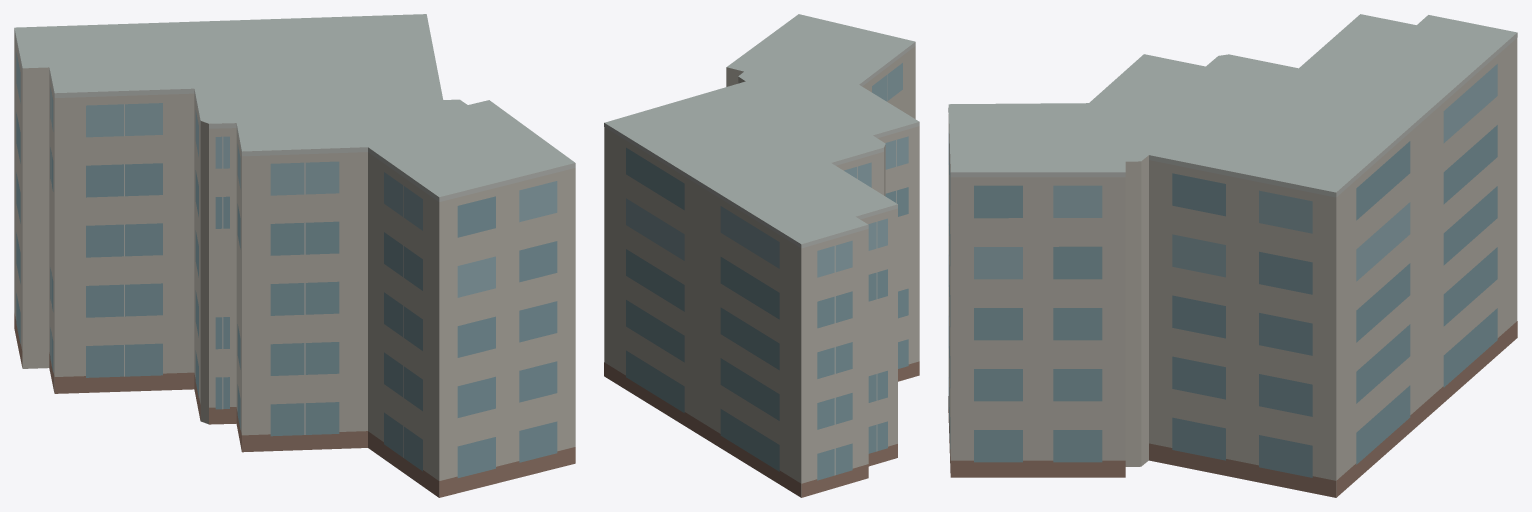
The model's file is survey-upis-32618994.glb.
3 renders of one model, left to right at view 1: azimuth 30°, elevation 25°; view 2: azimuth 150°, elevation 25°; view 3: azimuth 270°, elevation 25°, orthographic. The views are drawn at different scales.
Parts seen in each view (by area): view 1: survey-upis-32618994.tmp; view 2: survey-upis-32618994.tmp; view 3: survey-upis-32618994.tmp.
Part boxes in pixels (left/top/right/bottom): survey-upis-32618994.tmp: left=14, top=14, right=575, bottom=497; survey-upis-32618994.tmp: left=604, top=14, right=919, bottom=497; survey-upis-32618994.tmp: left=948, top=14, right=1517, bottom=497.
Size of the model in its own units: 18.57 by 14.8 by 25.
